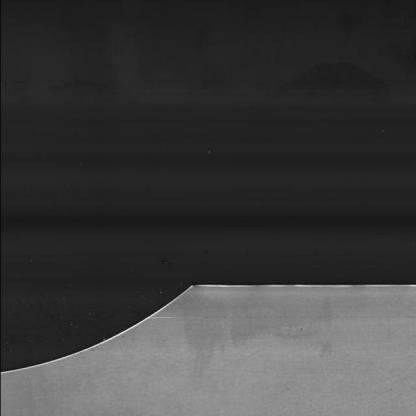crescent_gap: (0, 275, 218, 379)
